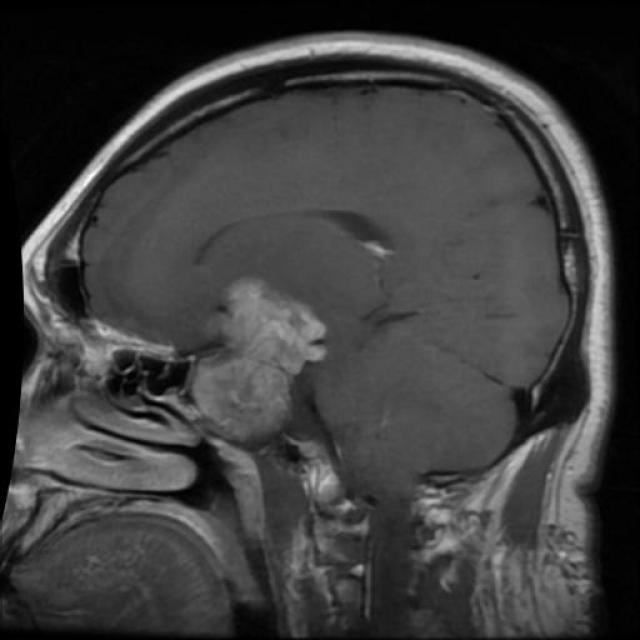Brain-Tumor: (178, 266, 334, 449)
